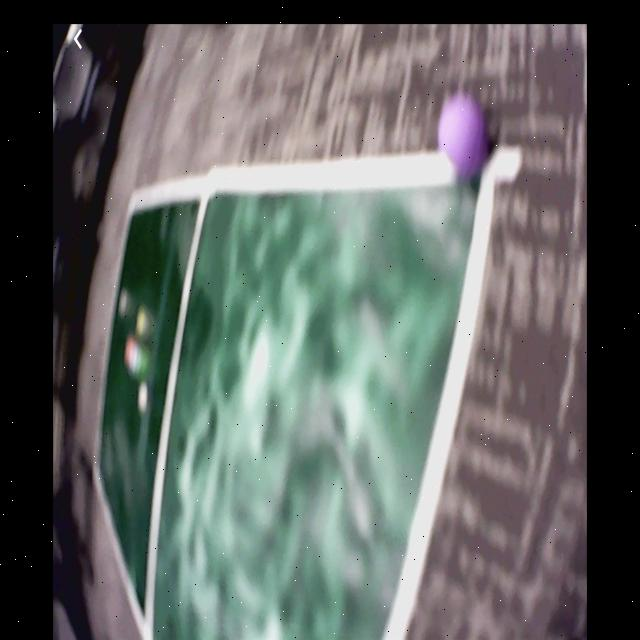ball: (440, 96, 486, 173)
